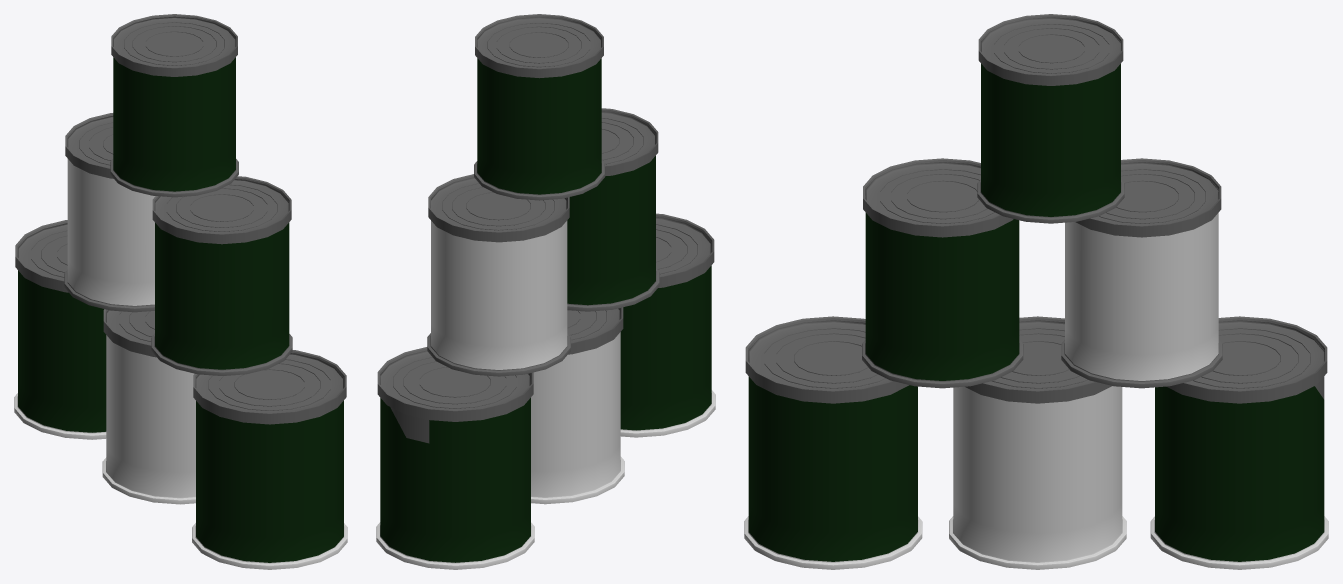
Rendered from SM_Cans2.fbx.
3 renders of one model, left to right at view 1: azimuth 30°, elevation 25°; view 2: azimuth 150°, elevation 25°; view 3: azimuth 270°, elevation 25°, orthographic. The views are drawn at different scales.
Parts seen in each view (by area): view 1: Conserves2; view 2: Conserves2; view 3: Conserves2.
Part boxes in pixels (x1,y1,x2,y2): Conserves2: [14, 14, 347, 569]; Conserves2: [376, 14, 715, 569]; Conserves2: [744, 14, 1328, 569].
Bounding box in the file's own units: 7.13 × 21.19 × 23.06.
